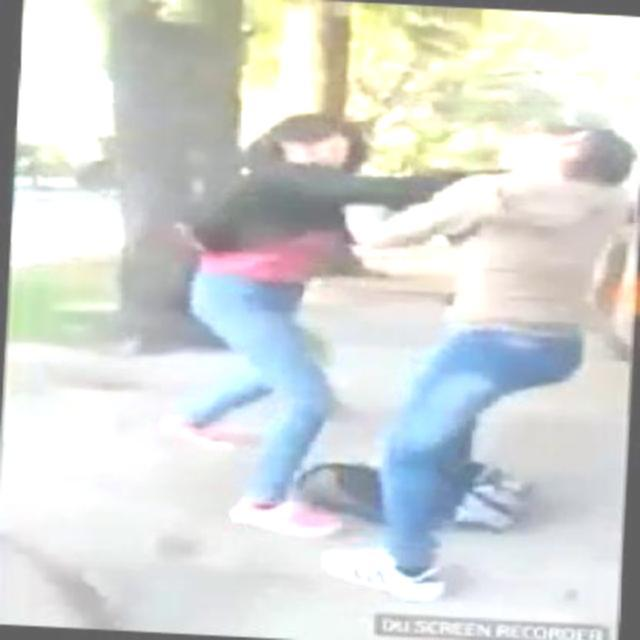fight: (152, 98, 638, 591)
